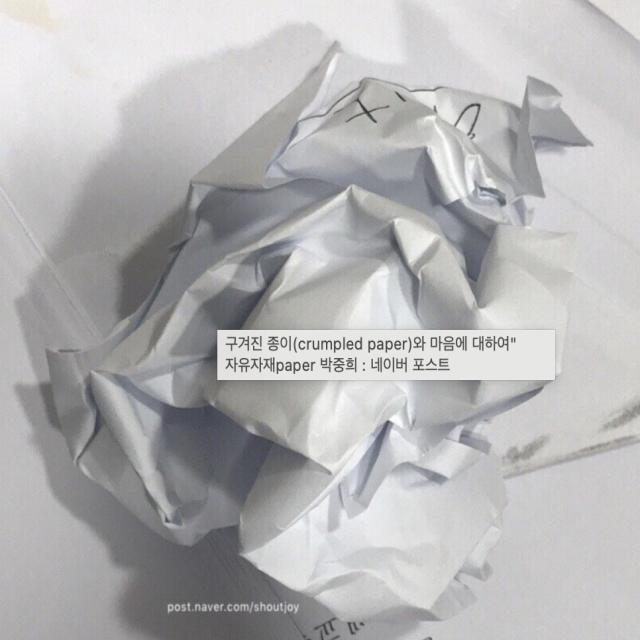biodegradable: (34, 21, 587, 631)
